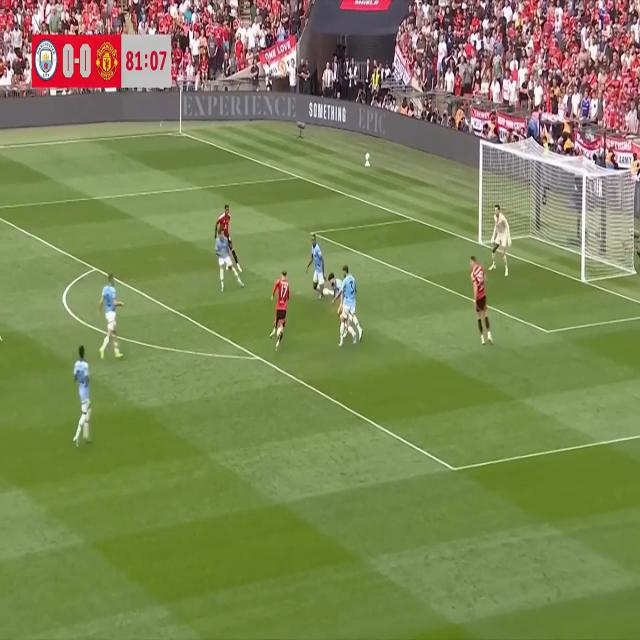ball: (272, 319, 287, 350)
goal_keeper: (486, 203, 513, 277)
players: (70, 327, 96, 458), (462, 255, 494, 354), (99, 273, 128, 375), (270, 263, 298, 354), (328, 268, 361, 345), (336, 249, 361, 348), (305, 228, 334, 308), (214, 230, 247, 297), (214, 200, 244, 272)
